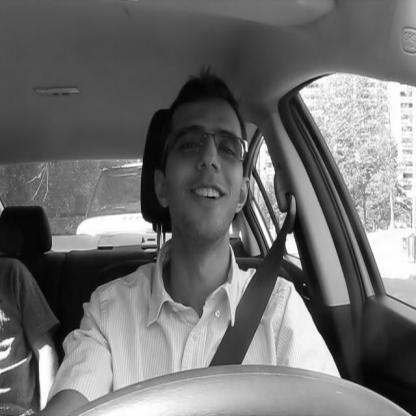seatbelt: (124, 72, 302, 416)
